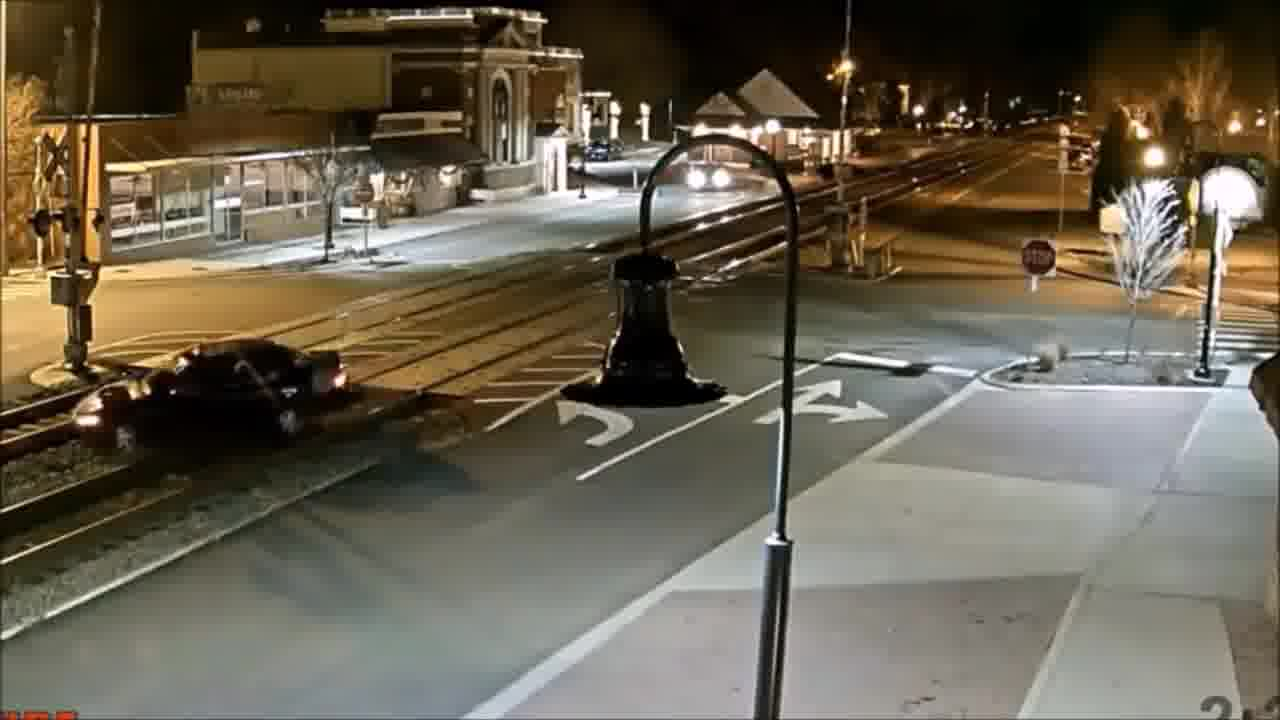crossing railway track: (62, 335, 351, 465)
